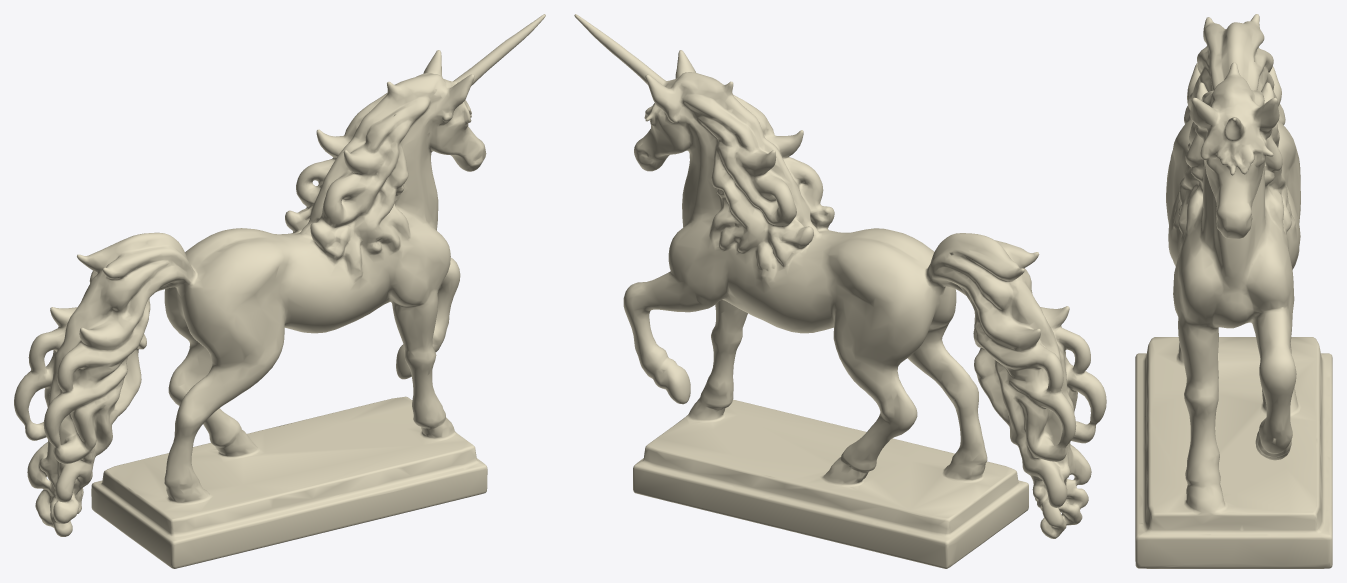
The model's file is unicorn.glb.
3 views of the same model, side by side, from view 1: azimuth 30°, elevation 25°; view 2: azimuth 150°, elevation 25°; view 3: azimuth 270°, elevation 25° (orthographic). The views are drawn at different scales.
Parts seen in each view (by area): view 1: unicorn - original generated mesh; view 2: unicorn - original generated mesh; view 3: unicorn - original generated mesh.
Boxes of the visible parts, bbox=[...] form: unicorn - original generated mesh: bbox=[14, 14, 545, 568]; unicorn - original generated mesh: bbox=[574, 14, 1106, 568]; unicorn - original generated mesh: bbox=[1135, 14, 1332, 568].
Bounding box in the file's own units: 4.31 × 3.4 × 1.2.
